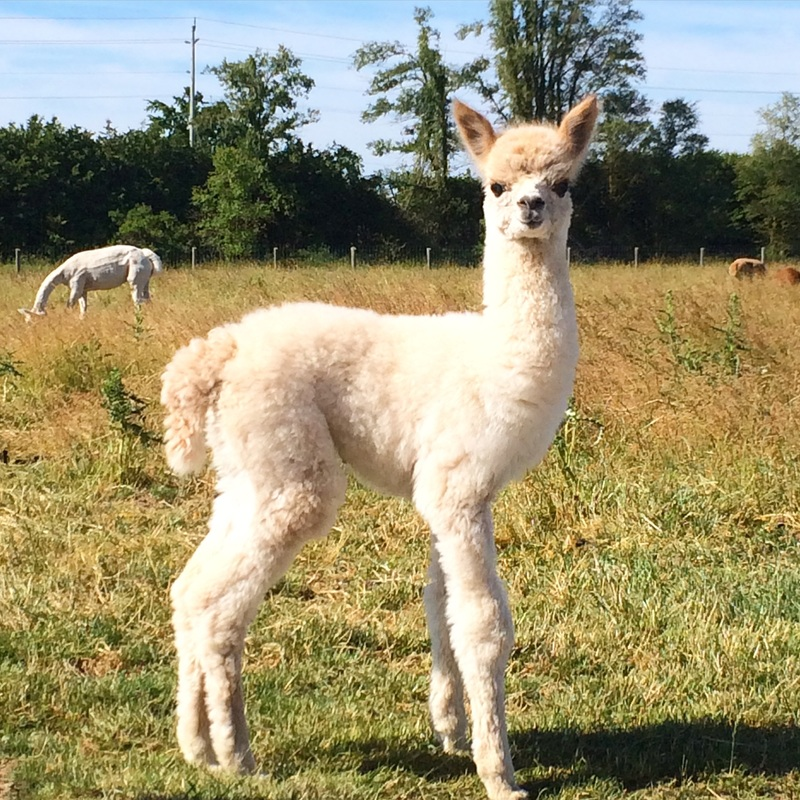alpaca: (160, 90, 599, 800), (19, 242, 162, 325)
